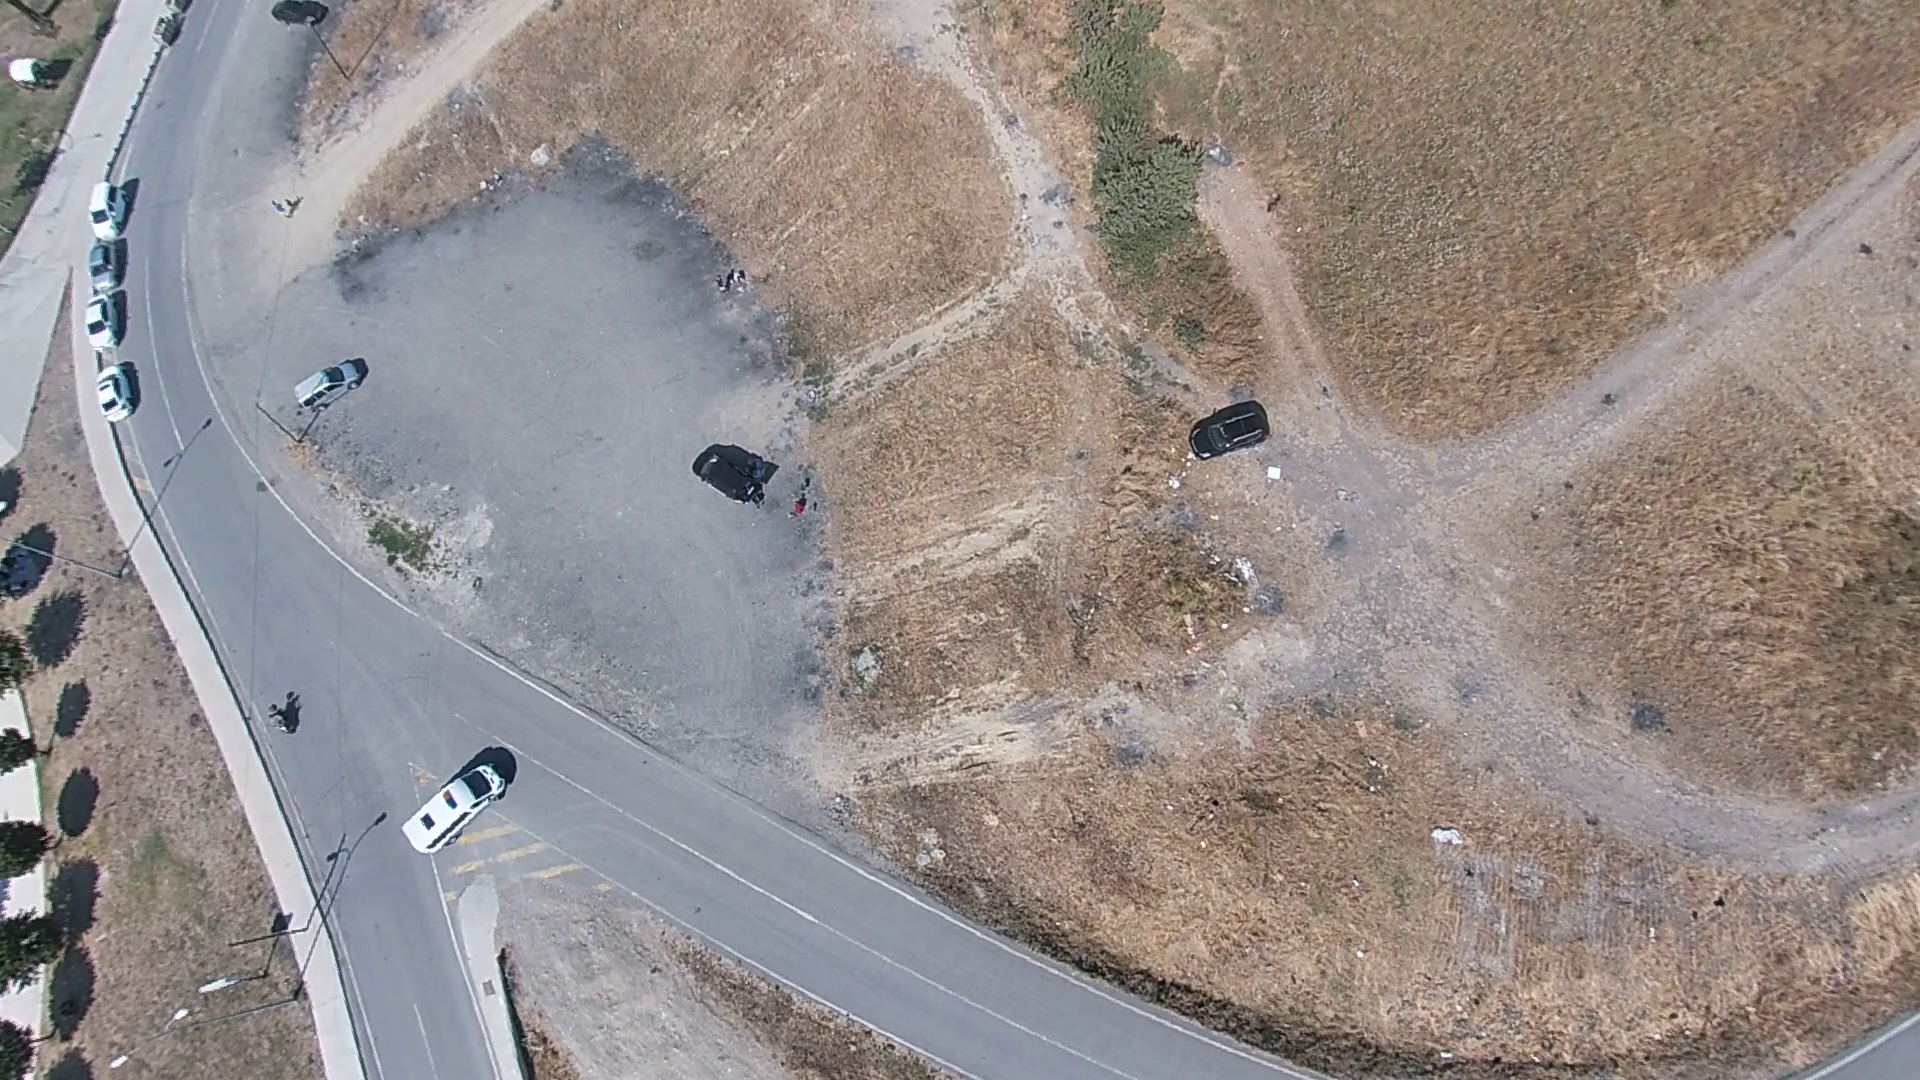arac: (395, 752, 508, 854), (1188, 398, 1272, 463), (690, 449, 767, 506), (285, 354, 359, 412), (86, 179, 130, 242), (94, 363, 137, 423), (84, 293, 120, 353), (88, 237, 123, 292)
insan: (267, 702, 289, 732), (270, 200, 288, 219), (713, 273, 728, 292), (282, 196, 297, 211), (793, 499, 802, 514)
